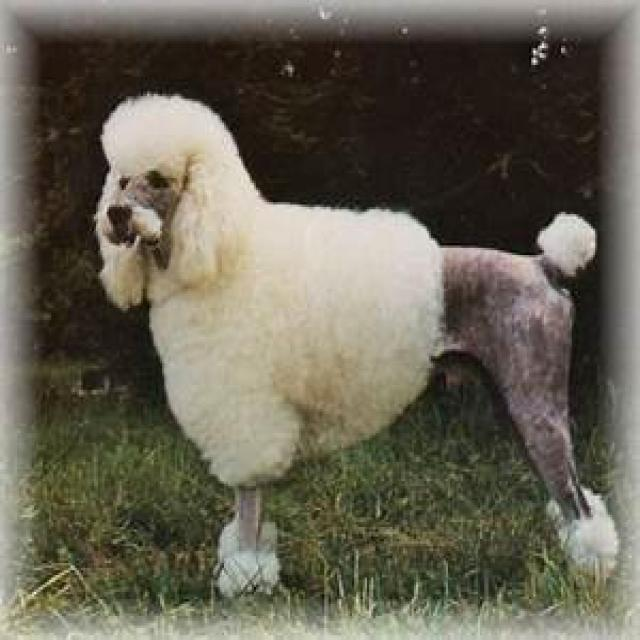KOPEK: (92, 88, 624, 594)
